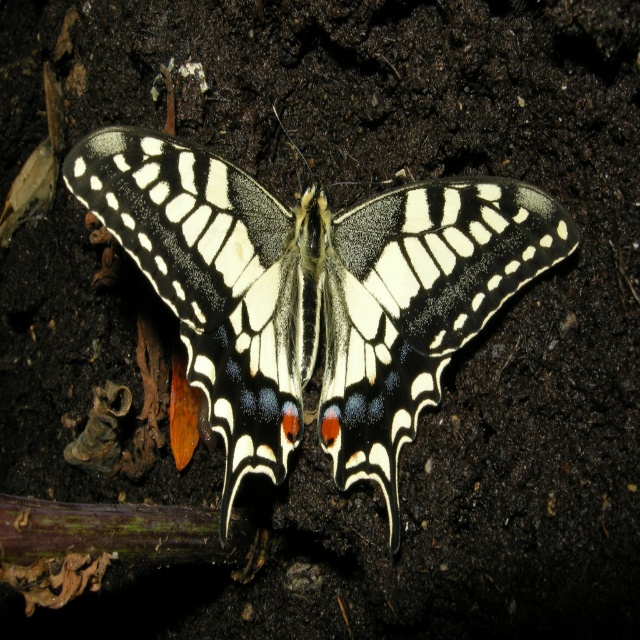Butterfly: (55, 96, 576, 544)
